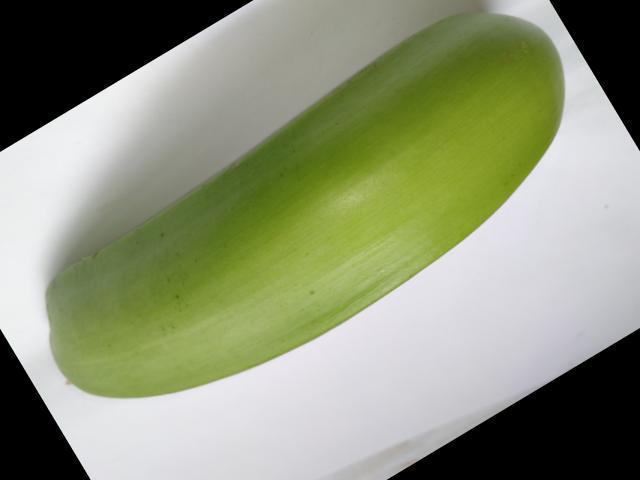freshunripe: (34, 0, 584, 407)
